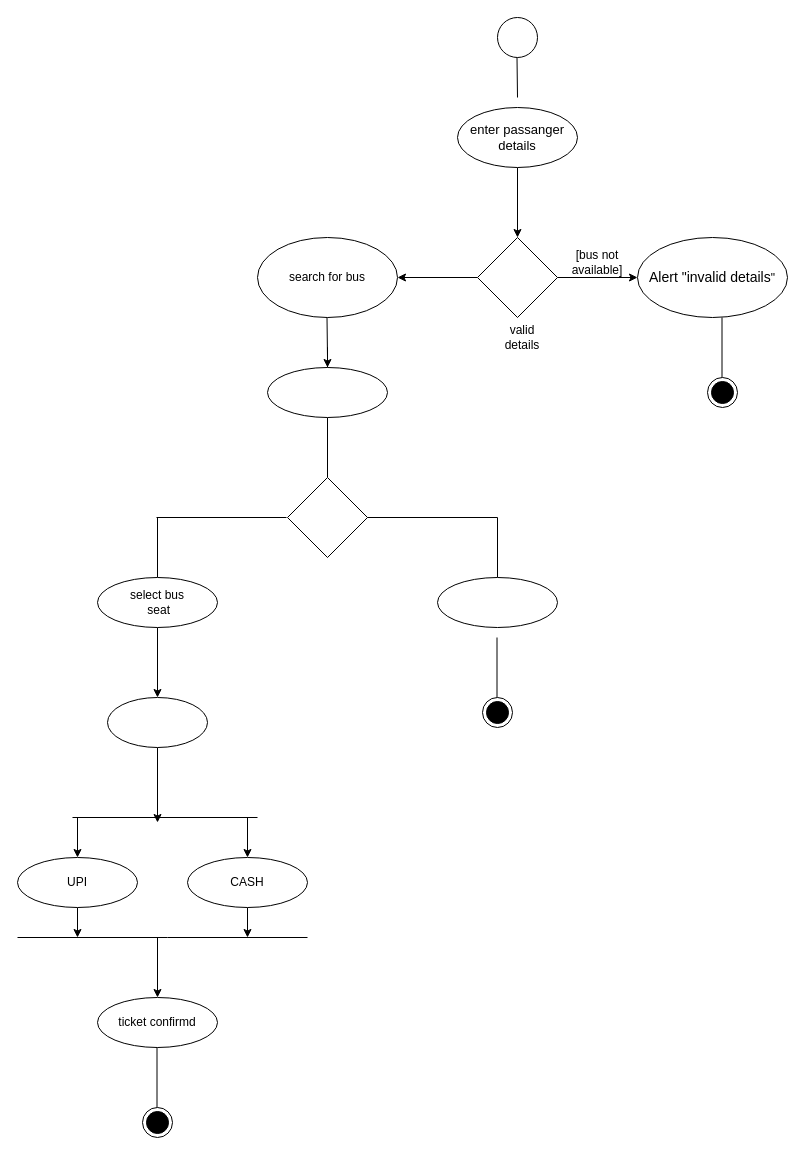
This 805x1155 diagram has some shape labels left out. Here are the shapes that lost their labels. From the top down, the centre of each, then its label:
pixel 327 392: bus found
pixel 497 602: alert"no seat available"
pixel 157 722: make payment
